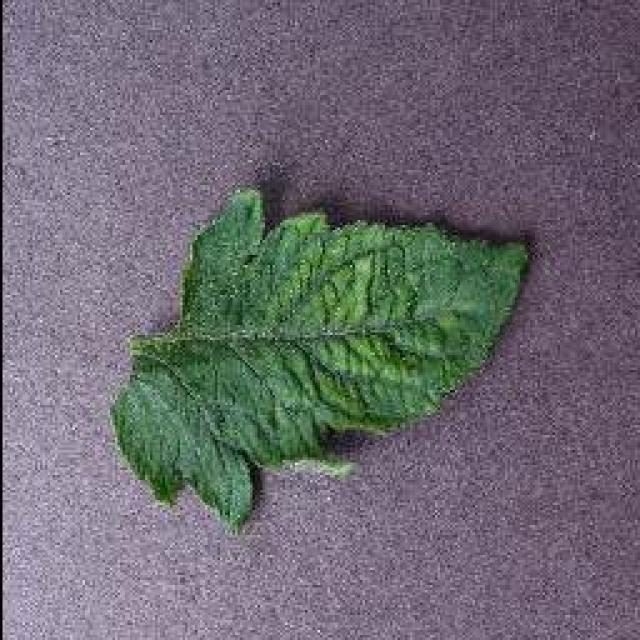Tomato___Tomato_mosaic_virus: (112, 190, 528, 525)
